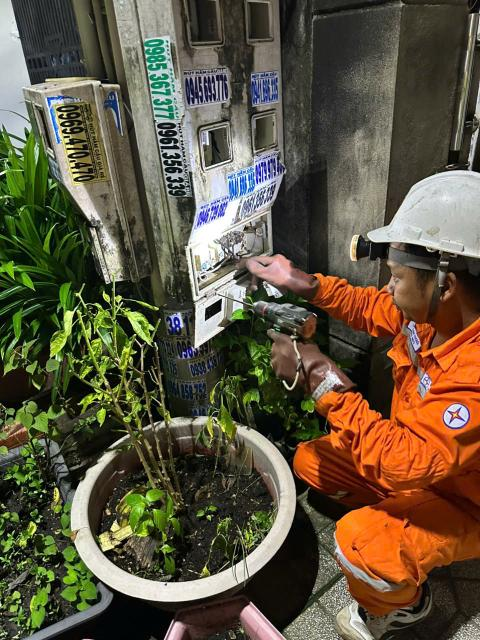gloves: (263, 329, 359, 401), (232, 245, 331, 306)
helmet: (338, 167, 480, 276)
shoes: (318, 572, 440, 640)
